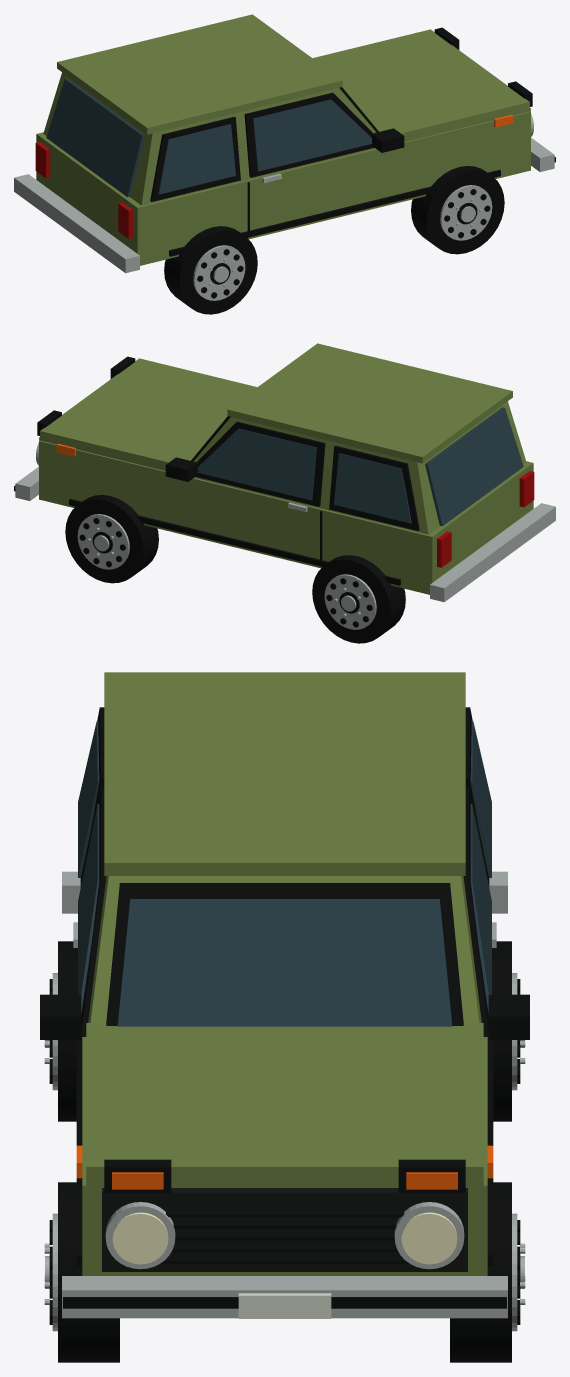
The model's file is niva.dae.
3 renders of one model, top to bottom at view 1: azimuth 30°, elevation 25°; view 2: azimuth 150°, elevation 25°; view 3: azimuth 270°, elevation 25°, orthographic. The views are drawn at different scales.
Visible parts, largest first — view 1: Niva; view 2: Niva; view 3: Niva.
Part boxes in pixels (box(x1,y1,x2,y2)): Niva: box(14, 14, 555, 314); Niva: box(14, 343, 555, 643); Niva: box(40, 672, 529, 1362).
Size of the model in its own units: 3.87 by 1.9 by 1.64.
